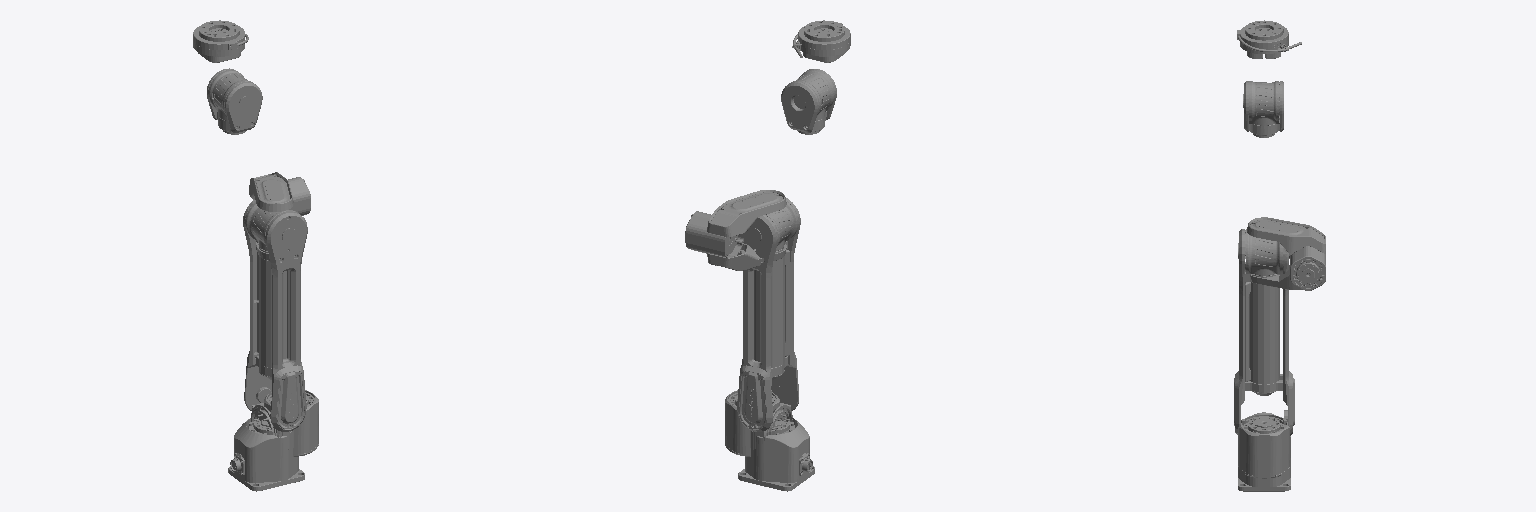
URDF robot description (saber_d6x):
<?xml version="1.0" encoding="utf-8"?>
<!-- This URDF was automatically created by SolidWorks to URDF Exporter! Originally created by Stephen Brawner (brawner@gmail.com) 
     Commit Version: 1.6.0-4-g7f85cfe  Build Version: 1.6.7995.38578
     For more information, please see http://wiki.ros.org/sw_urdf_exporter -->
<robot name="saber_d6x">
    <link name="base_link">
        <inertial>
            <origin xyz="-0.0027793 -9.439E-06 0.033407" rpy="0 0 0" />
            <mass value="0.2873" />
            <inertia ixx="0.00038435" ixy="-2.1028E-08" ixz="1.6655E-05"
                    iyy="0.00040643" iyz="-9.8042E-10" izz="0.00048639" />
        </inertial>
        <visual>
            <origin xyz="0 0 0" rpy="0 0 0" />
            <geometry>
                <mesh filename="package://hex_ros_ik_saber_d6x/urdf/meshes/base_link.STL" />
            </geometry>
            <material name="">
                <color rgba="0.6 0.6 0.6 1" />
            </material>
        </visual>
        <collision>
            <origin xyz="0 0 0" rpy="0 0 0" />
            <geometry>
                <mesh filename="package://hex_ros_ik_saber_d6x/urdf/meshes/base_link.STL" />
            </geometry>
        </collision>
    </link>
    
    <link name="link_1">
        <inertial>
            <origin xyz="0.0060334 0.0047366 0.027609" rpy="0 0 0" />
            <mass value="0.22105" />
            <inertia ixx="0.000106" ixy="-3.0677E-07" ixz="-1.5507E-05"
                    iyy="0.0001891" iyz="-9.9365E-08" izz="0.00015759" />
        </inertial>
        <visual>
            <origin xyz="0 0 0" rpy="0 0 0" />
            <geometry>
                <mesh filename="package://hex_ros_ik_saber_d6x/urdf/meshes/link_1.STL" />
            </geometry>
            <material name="">
                <color rgba="0.6 0.6 0.6 1" />
            </material>
        </visual>
        <collision>
            <origin xyz="0 0 0" rpy="0 0 0" />
            <geometry>
                <mesh filename="package://hex_ros_ik_saber_d6x/urdf/meshes/link_1.STL" />
            </geometry>
        </collision>
    </link>
    <joint name="joint_1" type="revolute">
        <origin xyz="0 0 0.0795" rpy="0 0 0" />
        <parent link="base_link" />
        <child link="link_1" />
        <axis xyz="0 0 1" />
        <limit effort="40.0" lower="-2.9845" upper="2.9845" velocity="100" />
    </joint>

    <link name="link_2">
        <inertial>
            <origin xyz="0.00016024 -0.00026641 0.1639" rpy="0 0 0" />
            <mass value="0.90382" />
            <inertia ixx="0.0056179" ixy="1.9731E-08" ixz="1.1466E-05"
                    iyy="0.0057706" iyz="-8.018E-07" izz="0.00034731" />
        </inertial>
        <visual>
            <origin xyz="0 0 0" rpy="0 0 0" />
            <geometry>
                <mesh filename="package://hex_ros_ik_saber_d6x/urdf/meshes/link_2.STL" />
            </geometry>
            <material name="">
                <color rgba="0.6 0.6 0.6 1" />
            </material>
        </visual>
        <collision>
            <origin xyz="0 0 0" rpy="0 0 0" />
            <geometry>
                <mesh filename="package://hex_ros_ik_saber_d6x/urdf/meshes/link_2.STL" />
            </geometry>
        </collision>
    </link>
    <joint name="joint_2" type="revolute">
        <origin xyz="0.015 0 0.0385" rpy="0 0 0" />
        <parent link="link_1" />
        <child link="link_2" />
        <axis xyz="0 1 0" />
        <limit effort="40.0" lower="-2.0944" upper="1.5708" velocity="100" />
    </joint>
    
    <link name="link_3">
        <inertial>
            <origin xyz="-0.060758 0.0015314 0.063124" rpy="0 0 0" />
            <mass value="0.77967" />
            <inertia ixx="0.0013164" ixy="6.7544E-07" ixz="0.00036698"
                    iyy="0.0017075" iyz="-1.8109E-06" izz="0.00062047" />
        </inertial>
        <visual>
            <origin xyz="0 0 0" rpy="0 0 0" />
            <geometry>
                <mesh filename="package://hex_ros_ik_saber_d6x/urdf/meshes/link_3.STL" />
            </geometry>
            <material name="">
                <color rgba="0.6 0.6 0.6 1" />
            </material>
        </visual>
        <collision>
            <origin xyz="0 0 0" rpy="0 0 0" />
            <geometry>
                <mesh filename="package://hex_ros_ik_saber_d6x/urdf/meshes/link_3.STL" />
            </geometry>
        </collision>
    </link>
    <joint name="joint_3" type="revolute">
        <origin xyz="0 0 0.3" rpy="0 0 0" />
        <parent link="link_2" />
        <child link="link_3" />
        <axis xyz="0 1 0" />
        <limit effort="40.0" lower="-0.3927" upper="3.1416" velocity="0" />
    </joint>

    <link name="link_4">
        <inertial>
            <origin xyz="2.0187E-05 -0.0020115 0.041453" rpy="0 0 0" />
            <mass value="0.27032" />
            <inertia ixx="0.00012345" ixy="-3.6634E-08" ixz="7.7235E-09"
                    iyy="0.0001646" iyz="3.282E-07" izz="0.00012046" />
        </inertial>
        <visual>
            <origin xyz="0 0 0" rpy="0 0 0" />
            <geometry>
                <mesh filename="package://hex_ros_ik_saber_d6x/urdf/meshes/link_4.STL" />
            </geometry>
            <material name="">
                <color rgba="0.6 0.6 0.6 1" />
            </material>
        </visual>
        <collision>
            <origin xyz="0 0 0" rpy="0 0 0" />
            <geometry>
                <mesh filename="package://hex_ros_ik_saber_d6x/urdf/meshes/link_4.STL" />
            </geometry>
        </collision>
    </link>
    <joint name="joint_4" type="revolute">
        <origin xyz="-0.072 0 0.185" rpy="0 0 0" />
        <parent link="link_3" />
        <child link="link_4" />
        <axis xyz="0 0 1" />
        <limit effort="40.0" lower="-2.9670597284" upper="2.9670597284" velocity="0" />
    </joint>

    <link name="link_5">
        <inertial>
            <origin xyz="0.001888 -0.0018108 0.055464" rpy="0 0 0" />
            <mass value="0.26763" />
            <inertia ixx="0.00013501" ixy="-4.1848E-08" ixz="-9.9225E-08"
                    iyy="0.00010699" iyz="-4.0834E-08" izz="8.4868E-05" />
        </inertial>
        <visual>
            <origin xyz="0 0 0" rpy="0 0 0" />
            <geometry>
                <mesh filename="package://hex_ros_ik_saber_d6x/urdf/meshes/link_5.STL" />
            </geometry>
            <material name="">
                <color rgba="0.6 0.6 0.6 1" />
            </material>
        </visual>
        <collision>
            <origin xyz="0 0 0" rpy="0 0 0" />
            <geometry>
                <mesh filename="package://hex_ros_ik_saber_d6x/urdf/meshes/link_5.STL" />
            </geometry>
        </collision>
    </link>
    <joint name="joint_5" type="revolute">
        <origin xyz="0 0 0.051" rpy="0 0 0" />
        <parent link="link_4" />
        <child link="link_5" />
        <axis xyz="0 1 0" />
        <limit effort="40.0" lower="-1.6580627894" upper="1.6580627894" velocity="100" />
    </joint>

    <link name="link_6">
        <inertial>
            <origin xyz="0.0092374 -7.1267E-11 0.022578" rpy="0 0 0" />
            <mass value="0.024422" />
            <inertia ixx="7.9532E-06" ixy="-3.7581E-15" ixz="5.8837E-08"
                    iyy="5.5751E-06" iyz="3.788E-14" izz="5.766E-06" />
        </inertial>
        <visual>
            <origin xyz="0 0 0" rpy="0 0 0" />
            <geometry>
                <mesh filename="package://hex_ros_ik_saber_d6x/urdf/meshes/link_6.STL" />
            </geometry>
            <material name="">
                <color rgba="0.6 0.6 0.6 1" />
            </material>
        </visual>
        <collision>
            <origin xyz="0 0 0" rpy="0 0 0" />
            <geometry>
                <mesh filename="package://hex_ros_ik_saber_d6x/urdf/meshes/link_6.STL" />
            </geometry>
        </collision>
    </link>
    <joint name="joint_6" type="revolute">
        <origin xyz="-0.027 0 0.075" rpy="0 0 0" />
        <parent link="link_5" />
        <child link="link_6" />
        <axis xyz="-1 0 0" />
        <limit effort="40.0" lower="-1.6057029118" upper="1.6057029118" velocity="100" />
    </joint>
</robot>

--- What the picture shows (computed from the rendered views, not written in the file) ---
Views: 3 orthographic renders of the robot side by side, from view 1: azimuth 30°, elevation 25°; view 2: azimuth 150°, elevation 25°; view 3: azimuth 270°, elevation 25°.
Robot: saber_d6x — 7 links, 6 joints (6 revolute); root link base_link; default pose: every joint at zero.
Links seen in each view (by area): view 1: link_2, base_link, link_4, link_3, link_6, link_1; view 2: link_2, link_3, base_link, link_4, link_6, link_1; view 3: link_2, link_3, link_1, link_4, link_6, base_link.
Link boxes in pixels (box(x1,y1,x2,y2)): link_2: box(243, 200, 307, 431); base_link: box(228, 418, 304, 491); link_4: box(207, 68, 262, 134); link_3: box(249, 172, 310, 260); link_6: box(193, 20, 248, 62); link_1: box(251, 390, 318, 456); link_2: box(737, 198, 800, 431); link_3: box(685, 190, 786, 270); base_link: box(738, 418, 814, 491); link_4: box(781, 69, 836, 134); link_6: box(792, 20, 850, 62); link_1: box(725, 390, 792, 456); link_2: box(1234, 229, 1294, 435); link_3: box(1247, 217, 1325, 290); link_1: box(1238, 412, 1289, 478); link_4: box(1243, 81, 1283, 137); link_6: box(1237, 20, 1301, 58); base_link: box(1238, 436, 1290, 491).
Bounding box of the posed robot: 0.232 × 0.1515 × 0.772 m (x, y, z).
6 mesh visuals loaded from 7 distinct referenced files (6 binary STL); not drawn: 1 (reference not matched to a file when rendering).
